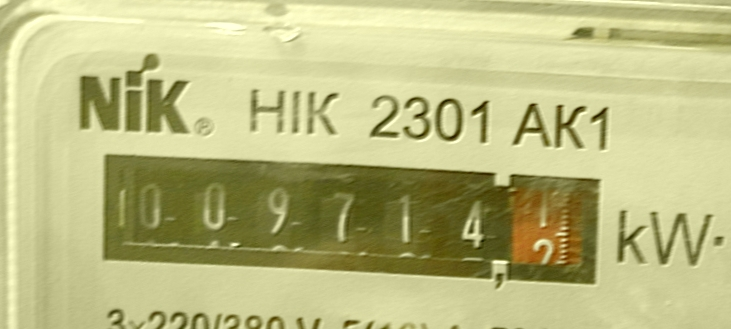0: (135, 178, 166, 233), (200, 178, 229, 232)
1: (394, 189, 418, 245), (535, 186, 552, 229)
2: (531, 234, 556, 265)
4: (458, 196, 489, 251)
7: (329, 189, 357, 244)
9: (262, 183, 293, 236)
screen: (85, 138, 618, 303)
